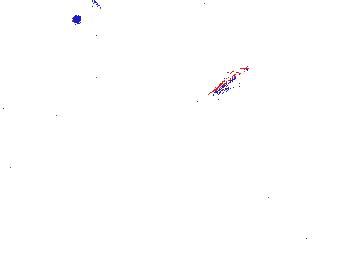red belly glassfish: (207, 64, 251, 105)
